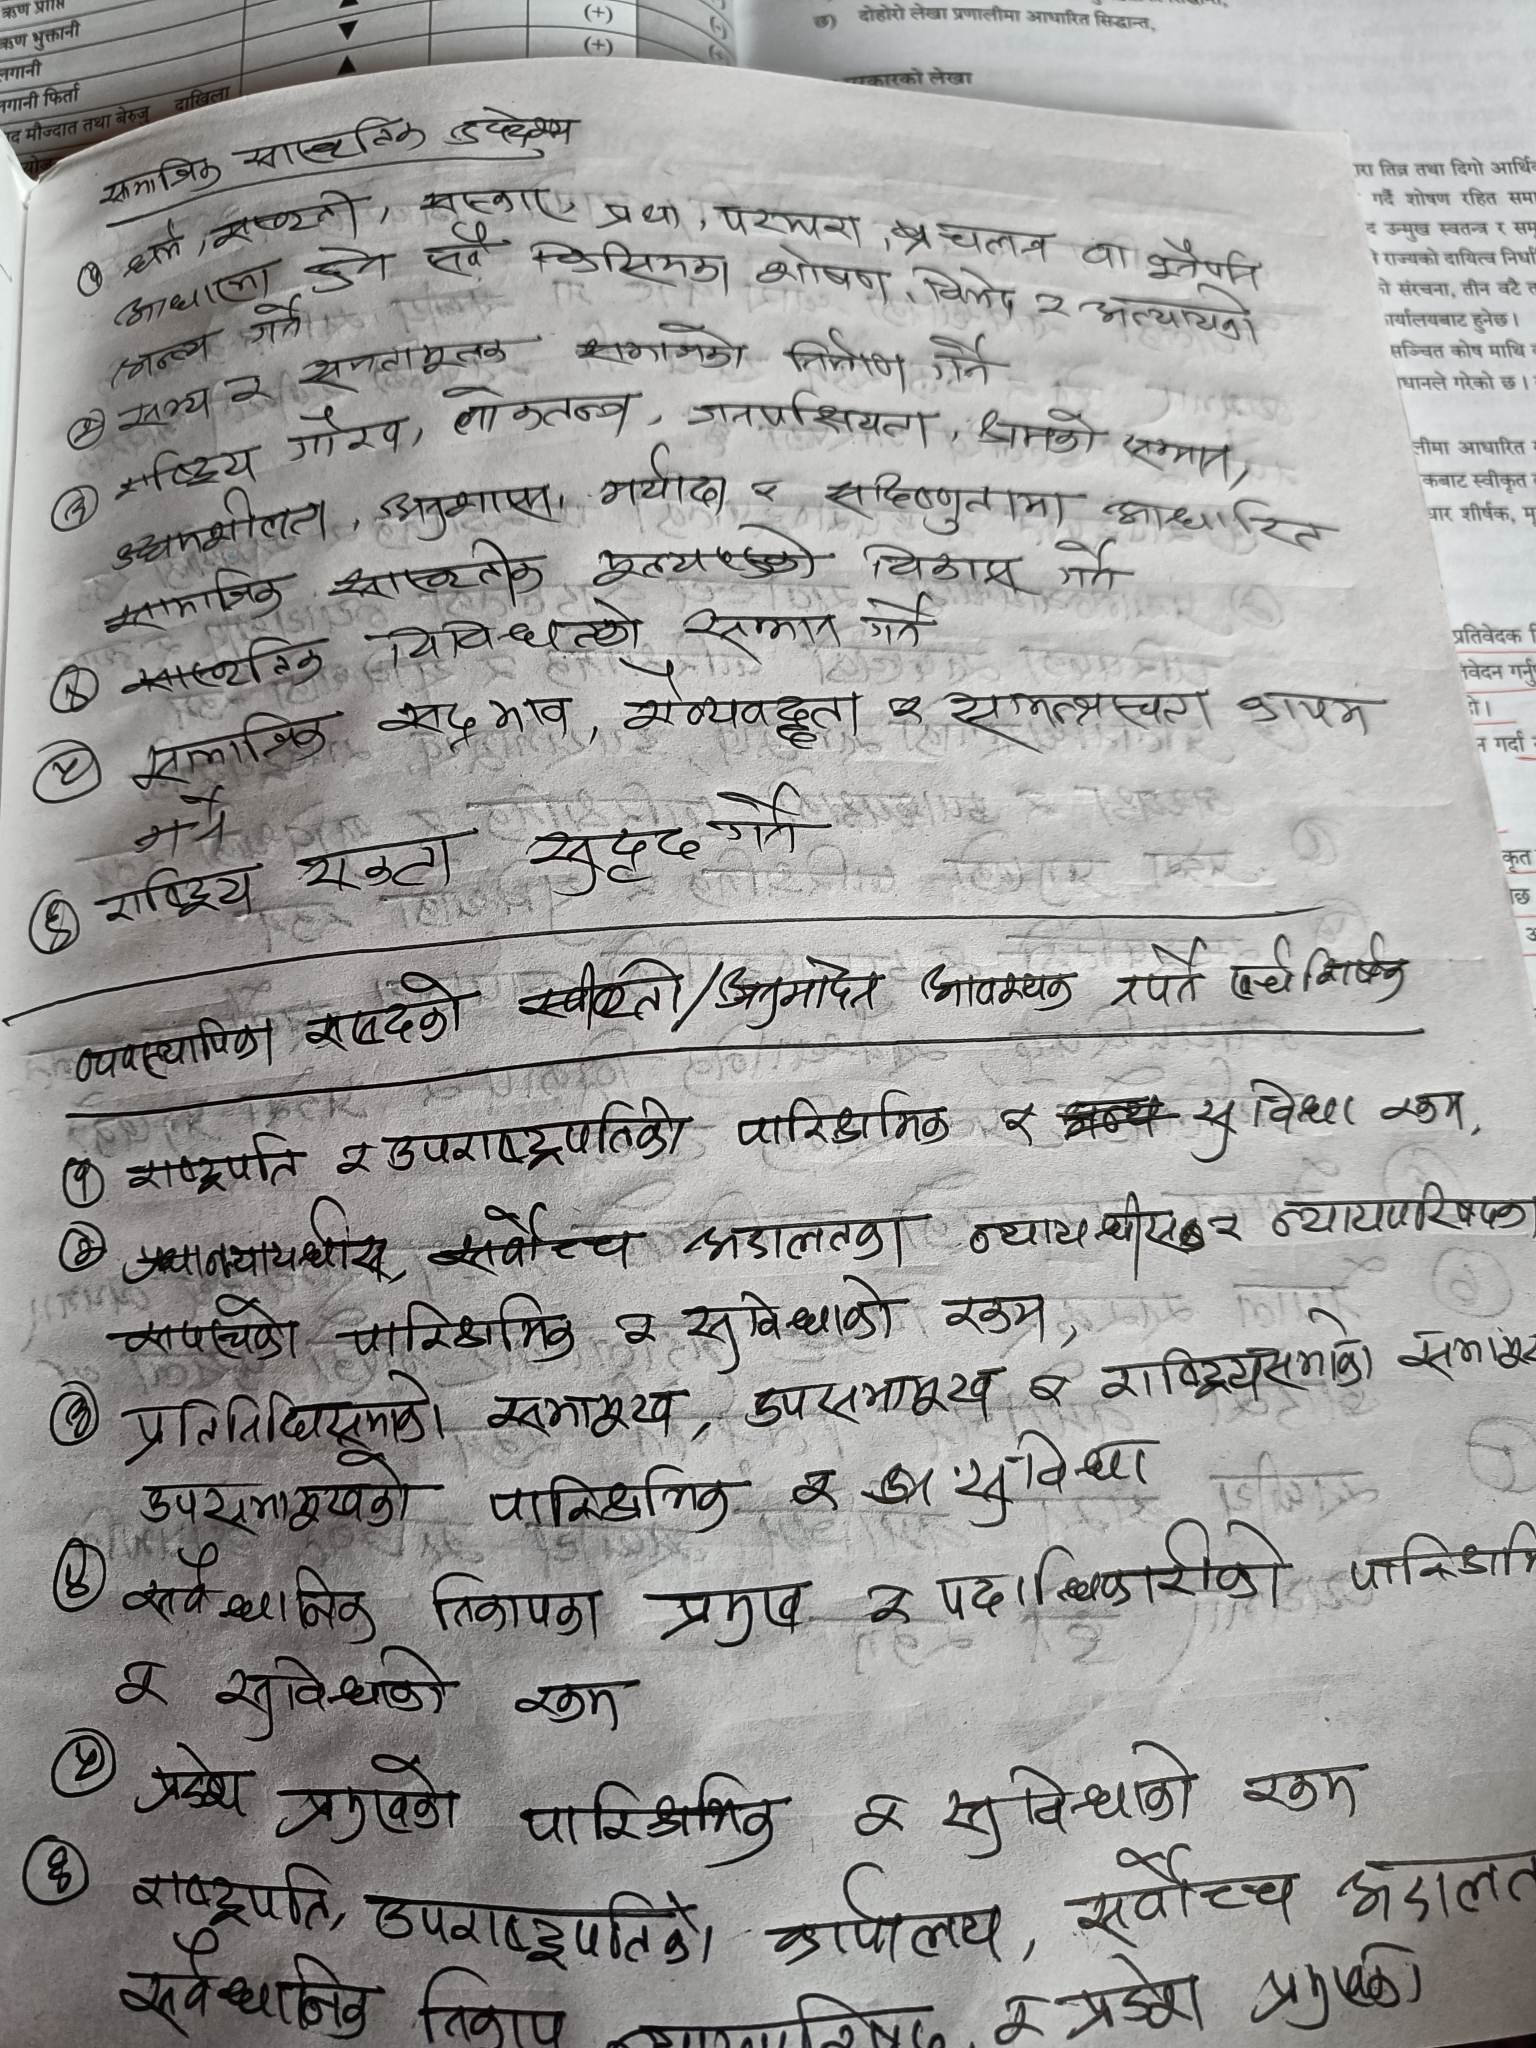text: (929, 1519, 1292, 1625), (366, 1885, 721, 1977), (113, 1929, 381, 2042), (1096, 1305, 1383, 1409), (515, 1764, 807, 1866), (941, 1737, 1196, 1853), (762, 1858, 1012, 1971), (124, 1545, 381, 1651), (118, 1192, 390, 1292), (136, 1447, 423, 1540), (213, 1642, 461, 1750), (115, 1372, 461, 1447), (382, 1097, 689, 1177), (1063, 1843, 1300, 1943), (949, 676, 1220, 760), (682, 1268, 894, 1371), (955, 1426, 1163, 1529), (266, 1746, 470, 1846), (812, 464, 1070, 539), (615, 684, 866, 758), (482, 1464, 745, 1535), (111, 490, 337, 572), (736, 1364, 1004, 1434), (1333, 1842, 1536, 1930), (342, 1297, 582, 1371), (387, 597, 650, 664), (127, 710, 342, 792), (687, 387, 947, 455), (124, 1851, 337, 1932), (958, 1193, 1187, 1268), (1189, 1076, 1359, 1174), (591, 526, 823, 597), (1267, 1177, 1521, 1242), (326, 535, 557, 606), (419, 1205, 647, 1276), (1254, 1940, 1428, 2032), (295, 964, 474, 1053), (1099, 485, 1336, 552), (1346, 1522, 1536, 1605), (65, 1014, 281, 1085), (423, 1566, 608, 1646), (110, 1292, 307, 1367), (728, 1089, 958, 1153), (687, 1211, 912, 1274), (1057, 1951, 1212, 2042), (528, 232, 741, 297), (415, 1963, 574, 2048), (1079, 279, 1267, 352), (374, 687, 574, 755), (520, 822, 708, 893), (295, 819, 460, 900), (716, 948, 887, 1026), (647, 1579, 820, 1655), (508, 958, 682, 1032), (100, 566, 294, 632), (290, 335, 515, 392), (481, 1384, 686, 1445), (131, 1127, 307, 1198), (381, 476, 560, 543), (674, 606, 854, 672), (440, 381, 644, 439), (599, 439, 734, 518), (90, 864, 265, 926), (570, 321, 755, 377), (1391, 1321, 1536, 1392), (136, 1738, 248, 1825), (778, 326, 915, 397), (240, 118, 426, 168), (860, 539, 1026, 593), (912, 964, 1083, 1018), (110, 443, 269, 500), (891, 214, 1063, 266), (749, 240, 894, 302), (708, 190, 868, 245), (213, 185, 368, 240), (971, 402, 1108, 461), (1238, 684, 1376, 742), (1105, 935, 1208, 1013), (1112, 421, 1234, 485), (281, 408, 413, 468), (1238, 1759, 1360, 1822), (118, 269, 269, 319), (508, 1675, 641, 1732), (934, 1285, 1058, 1343), (416, 174, 570, 221), (713, 784, 815, 853), (1302, 939, 1409, 1005), (904, 255, 1023, 313), (444, 102, 581, 152), (92, 153, 224, 205), (1142, 235, 1262, 287), (118, 374, 213, 434), (1221, 934, 1297, 1005), (1379, 1084, 1475, 1140), (778, 1459, 858, 1526), (108, 331, 215, 379), (860, 587, 934, 655), (303, 239, 394, 293), (423, 221, 495, 287), (923, 326, 991, 389), (1054, 548, 1125, 605), (106, 1655, 177, 1711), (599, 197, 689, 240), (845, 1787, 915, 1843), (118, 226, 192, 277), (994, 1093, 1047, 1159), (1016, 1364, 1083, 1414), (244, 298, 310, 347), (603, 1306, 662, 1361), (1078, 223, 1136, 276), (860, 1576, 913, 1634), (878, 692, 933, 742), (221, 366, 274, 410), (1029, 281, 1075, 327), (749, 474, 786, 518), (1212, 1206, 1249, 1250), (334, 1142, 374, 1179)
